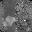people: (2, 16, 16, 27)
